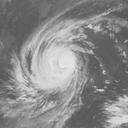cyclone: (12, 23, 84, 103)
